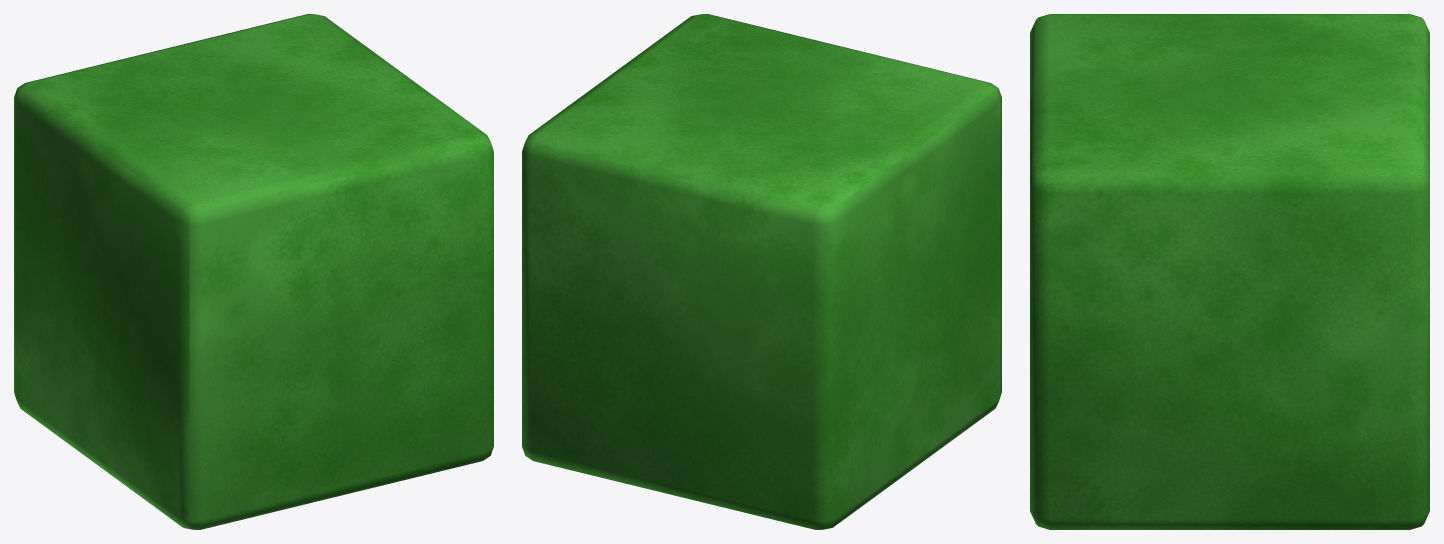
The model's file is Kusa.obj.
3 views of the same model, side by side, from view 1: azimuth 30°, elevation 25°; view 2: azimuth 150°, elevation 25°; view 3: azimuth 270°, elevation 25° (orthographic). The views are drawn at different scales.
Visible parts, largest first — view 1: Cube; view 2: Cube; view 3: Cube.
Boxes of the visible parts, x1,y1,x2,y2 form: Cube: (14,14,493,529); Cube: (522,14,1001,529); Cube: (1030,14,1429,529).
Bounding box in the file's own units: 1 × 1 × 1.
1 material, 1 textured.
